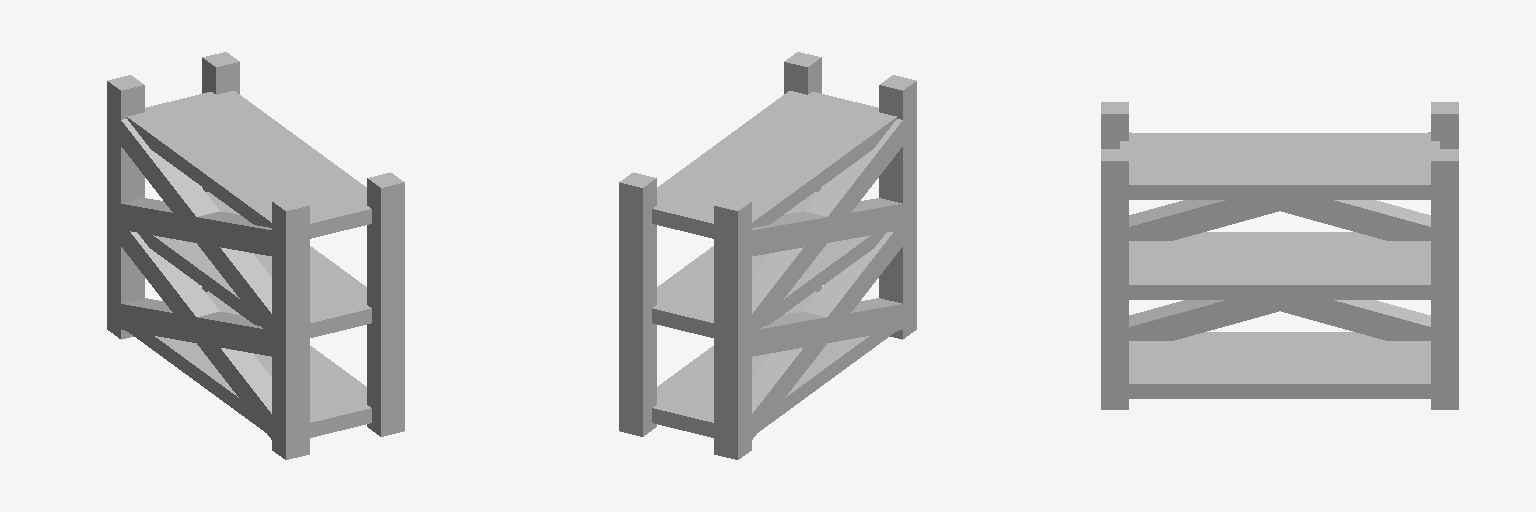
The model's file is BasicBookshelf.obj.
The picture shows the model from 3 angles: view 1: azimuth 30°, elevation 25°; view 2: azimuth 150°, elevation 25°; view 3: azimuth 270°, elevation 25°; orthographic projection.
Visible parts, largest first — view 1: pCube1 pCube4, pCube1 pCube4 pCube6, pCube1 pCube4 pCube5, pCube1 pCube3, pCube1 pCube10, pCube1 pCube9, pCube1 pCube4 pCube7, pCube1, pCube1 pCube13, pCube12, pCube1 pCube4 pCube8, pCube2; view 2: pCube1 pCube4, pCube1 pCube4 pCube8, pCube1 pCube4 pCube7, pCube1 pCube3, pCube1 pCube13, pCube12, pCube1 pCube4 pCube6, pCube1, pCube1 pCube9, pCube1 pCube10, pCube1 pCube4 pCube5, pCube2; view 3: pCube1 pCube4, pCube1 pCube3, pCube1, pCube1 pCube4 pCube5, pCube1 pCube4 pCube8, pCube12, pCube1 pCube13, pCube1 pCube9, pCube1 pCube10, pCube2, pCube1 pCube4 pCube6, pCube1 pCube4 pCube7.
Boxes of the visible parts, x1=… form: pCube1 pCube4: x1=127, y1=91, x2=371, y2=238; pCube1 pCube4 pCube6: x1=272, y1=196, x2=309, y2=459; pCube1 pCube4 pCube5: x1=367, y1=172, x2=404, y2=436; pCube1 pCube3: x1=138, y1=192, x2=371, y2=337; pCube1 pCube10: x1=117, y1=219, x2=276, y2=440; pCube1 pCube9: x1=116, y1=119, x2=276, y2=340; pCube1 pCube4 pCube7: x1=107, y1=75, x2=144, y2=339; pCube1: x1=128, y1=291, x2=371, y2=437; pCube1 pCube13: x1=116, y1=198, x2=276, y2=256; pCube12: x1=117, y1=298, x2=276, y2=357; pCube1 pCube4 pCube8: x1=202, y1=52, x2=239, y2=291; pCube2: x1=127, y1=331, x2=365, y2=437; pCube1 pCube4: x1=652, y1=91, x2=896, y2=238; pCube1 pCube4 pCube8: x1=619, y1=172, x2=656, y2=436; pCube1 pCube4 pCube7: x1=714, y1=196, x2=751, y2=459; pCube1 pCube3: x1=652, y1=192, x2=885, y2=337; pCube1 pCube13: x1=747, y1=119, x2=905, y2=338; pCube12: x1=747, y1=221, x2=905, y2=440; pCube1 pCube4 pCube6: x1=879, y1=75, x2=916, y2=339; pCube1: x1=652, y1=291, x2=895, y2=437; pCube1 pCube9: x1=747, y1=198, x2=902, y2=256; pCube1 pCube10: x1=747, y1=298, x2=902, y2=357; pCube1 pCube4 pCube5: x1=784, y1=52, x2=821, y2=291; pCube2: x1=652, y1=331, x2=896, y2=437; pCube1 pCube4: x1=1120, y1=133, x2=1439, y2=199; pCube1 pCube3: x1=1129, y1=232, x2=1430, y2=299; pCube1: x1=1129, y1=332, x2=1430, y2=398; pCube1 pCube4 pCube5: x1=1101, y1=149, x2=1128, y2=409; pCube1 pCube4 pCube8: x1=1431, y1=149, x2=1458, y2=409; pCube12: x1=1241, y1=300, x2=1430, y2=340; pCube1 pCube13: x1=1129, y1=132, x2=1430, y2=240; pCube1 pCube9: x1=1129, y1=132, x2=1430, y2=240; pCube1 pCube10: x1=1129, y1=300, x2=1311, y2=340; pCube2: x1=1129, y1=384, x2=1430, y2=392; pCube1 pCube4 pCube6: x1=1101, y1=102, x2=1128, y2=148; pCube1 pCube4 pCube7: x1=1431, y1=102, x2=1458, y2=148.
Bounding box in the file's own units: 2.5 × 5 × 6.5.